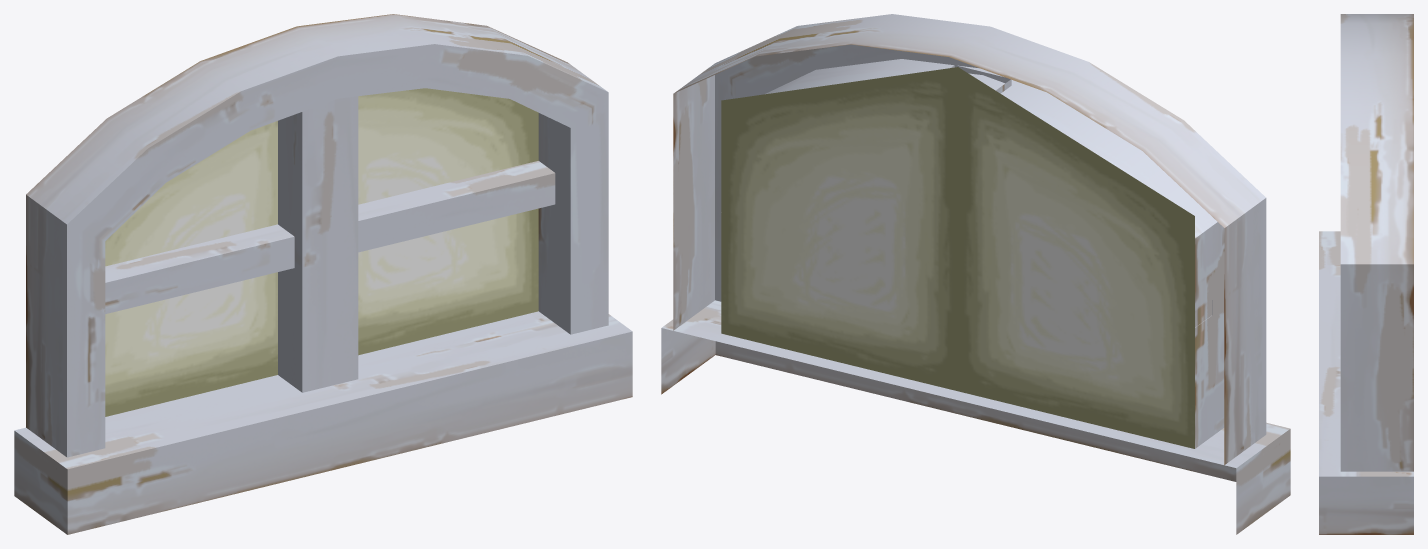
Rendered from MOD_Window_03_04.fbx.
3 renders of one model, left to right at view 1: azimuth 30°, elevation 25°; view 2: azimuth 150°, elevation 25°; view 3: azimuth 270°, elevation 25°, orthographic. The views are drawn at different scales.
Parts seen in each view (by area): view 1: MOD_Window_03_04; view 2: MOD_Window_03_04; view 3: MOD_Window_03_04.
Part boxes in pixels (x1,y1,x2,y2): MOD_Window_03_04: [14, 14, 632, 534]; MOD_Window_03_04: [661, 14, 1290, 534]; MOD_Window_03_04: [1319, 14, 1413, 534].
Size of the model in its own units: 108 by 73.31 by 17.65.
